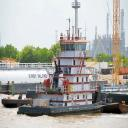tugboat: (17, 38, 105, 121)
